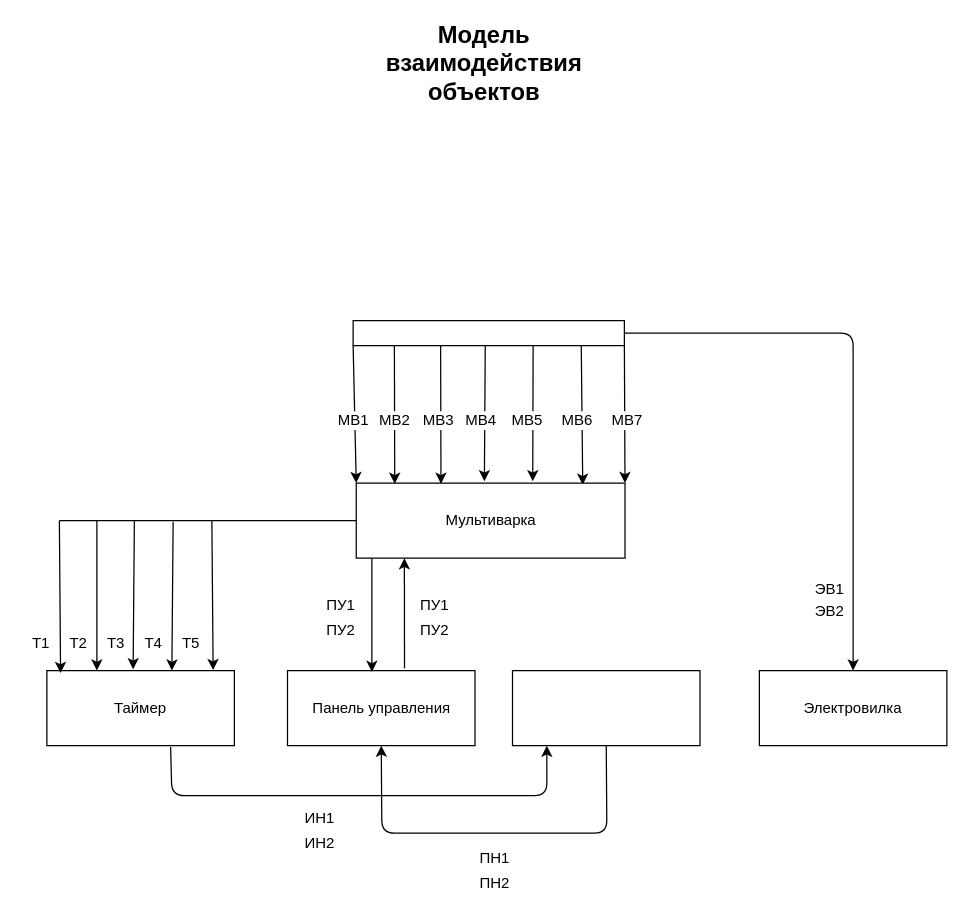
This 969x916 diagram has some shape labels left out. The centre of each missing label's shape, as x and y in pixels:
Индукционный нагреватель: the point at 605,707
Пользователь: the point at 488,332
